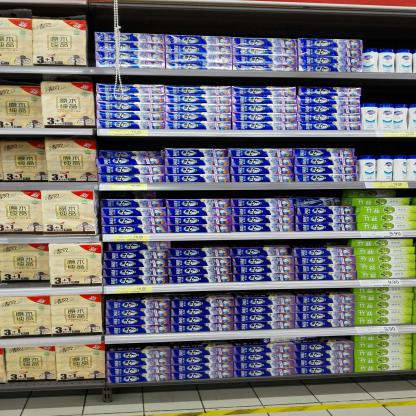Void: (138, 75, 360, 89), (170, 138, 354, 148), (363, 78, 416, 102), (102, 136, 157, 156), (365, 26, 412, 47), (364, 137, 416, 155)
